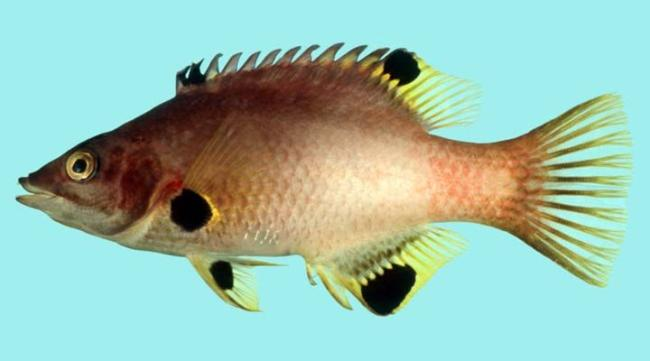fish: (17, 42, 633, 317)
